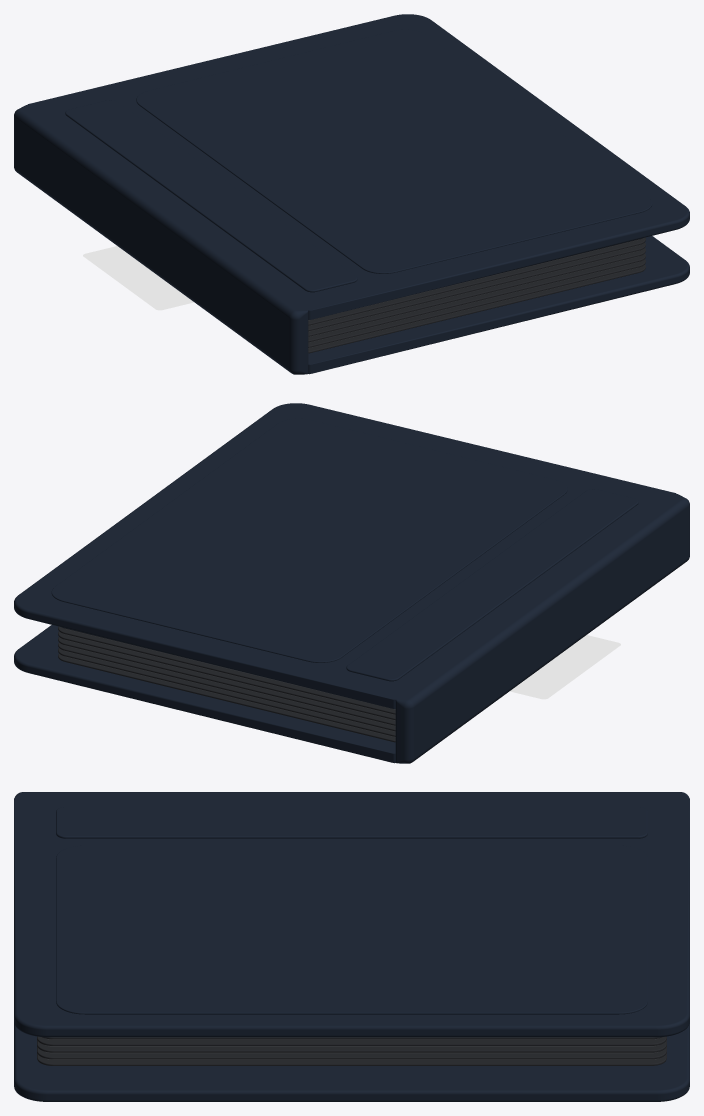
File: album-8h.glb
3 views of the same model, one above another, from view 1: azimuth 30°, elevation 25°; view 2: azimuth 150°, elevation 25°; view 3: azimuth 270°, elevation 25° (orthographic). The views are drawn at different scales.
Visible parts, largest first — view 1: Tapa_Panel, Tapa_Malla, Lomo, Tapa_Banda, Contratapa, Plantilla_Carta_F, Hoja_3_Losa, Hoja_5_Losa, Hoja_6_Losa, Hoja_7_Losa, Hoja_4_Losa, Hoja_2_Losa; view 2: Tapa_Panel, Tapa_Malla, Lomo, Tapa_Banda, Contratapa, Plantilla_Carta_F, Hoja_3_Losa, Hoja_5_Losa, Hoja_6_Losa, Hoja_7_Losa, Hoja_4_Losa, Hoja_2_Losa; view 3: Tapa_Panel, Tapa_Malla, Contratapa, Tapa_Banda, Hoja_6_Losa, Hoja_5_Losa, Hoja_7_Losa, Hoja_4_Losa, Lomo, Hoja_3_Losa.
Boxes of the visible parts, bbox=[...] form: Tapa_Panel: bbox=[136, 29, 652, 273]; Tapa_Malla: bbox=[27, 14, 689, 319]; Lomo: bbox=[14, 105, 308, 374]; Tapa_Banda: bbox=[65, 100, 357, 292]; Contratapa: bbox=[308, 236, 689, 374]; Plantilla_Carta_F: bbox=[83, 246, 193, 310]; Hoja_3_Losa: bbox=[308, 242, 645, 331]; Hoja_5_Losa: bbox=[308, 253, 645, 342]; Hoja_6_Losa: bbox=[308, 259, 645, 347]; Hoja_7_Losa: bbox=[308, 265, 645, 353]; Hoja_4_Losa: bbox=[308, 248, 645, 336]; Hoja_2_Losa: bbox=[308, 237, 645, 325]; Tapa_Panel: bbox=[51, 418, 567, 662]; Tapa_Malla: bbox=[14, 403, 676, 708]; Lomo: bbox=[395, 494, 689, 763]; Tapa_Banda: bbox=[346, 489, 638, 681]; Contratapa: bbox=[14, 625, 395, 763]; Plantilla_Carta_F: bbox=[510, 635, 620, 699]; Hoja_3_Losa: bbox=[58, 631, 395, 720]; Hoja_5_Losa: bbox=[58, 642, 395, 731]; Hoja_6_Losa: bbox=[58, 648, 395, 736]; Hoja_7_Losa: bbox=[58, 654, 395, 742]; Hoja_4_Losa: bbox=[58, 637, 395, 725]; Hoja_2_Losa: bbox=[58, 626, 395, 714]; Tapa_Panel: bbox=[56, 845, 647, 1014]; Tapa_Malla: bbox=[14, 798, 689, 1037]; Contratapa: bbox=[14, 1022, 689, 1101]; Tapa_Banda: bbox=[56, 807, 647, 838]; Hoja_6_Losa: bbox=[37, 1046, 666, 1059]; Hoja_5_Losa: bbox=[37, 1039, 666, 1052]; Hoja_7_Losa: bbox=[37, 1052, 666, 1065]; Hoja_4_Losa: bbox=[37, 1036, 666, 1045]; Lomo: bbox=[14, 792, 689, 798]; Hoja_3_Losa: bbox=[42, 1037, 661, 1039].
Size of the model in its own units: 0.2895 by 0.0412 by 0.322.
